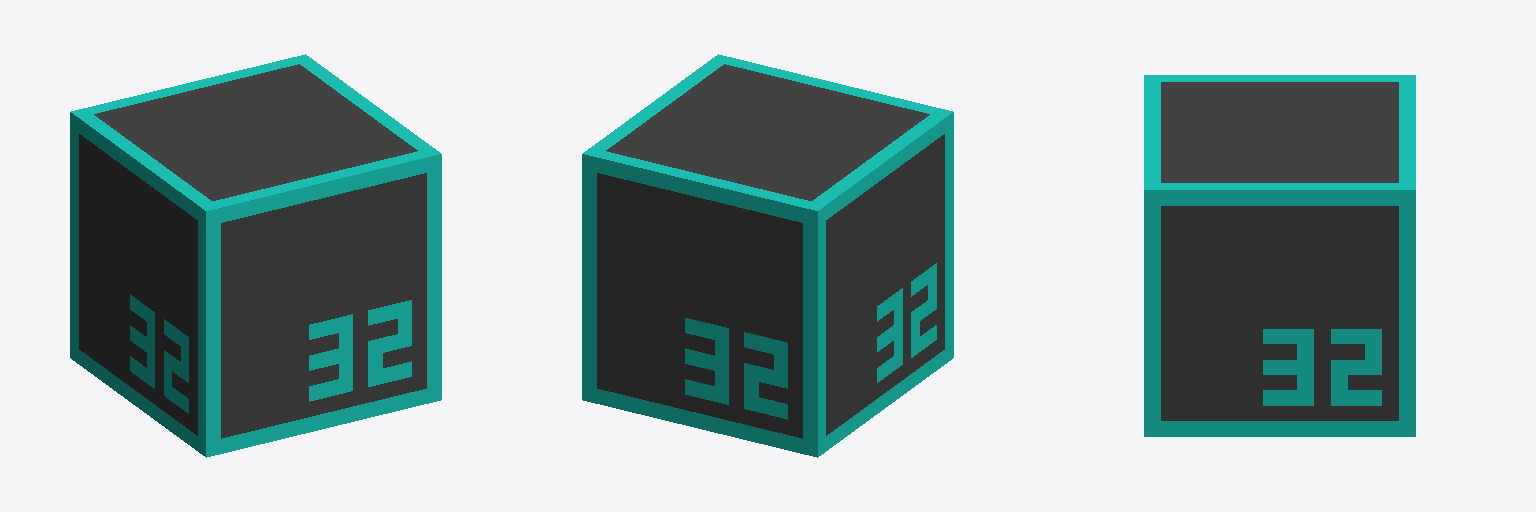
3 renders of one model, left to right at view 1: azimuth 30°, elevation 25°; view 2: azimuth 150°, elevation 25°; view 3: azimuth 270°, elevation 25°, orthographic.
Visible parts, largest first — view 1: object 1; view 2: object 1; view 3: object 1.
Part boxes in pixels (x1,y1,x2,y2): object 1: (70, 54, 441, 457); object 1: (582, 54, 953, 457); object 1: (1144, 75, 1415, 436).
Size of the model in its own units: 3.2 by 3.2 by 3.2.
1 materials, 1 textured.